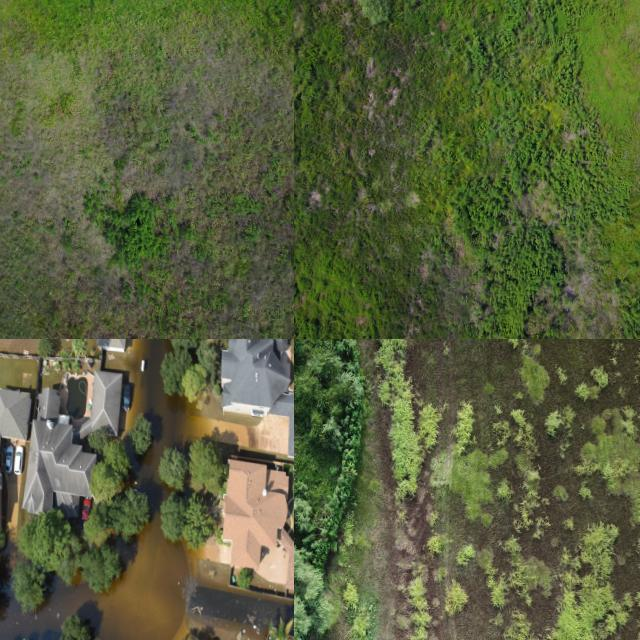fire: (0, 339, 232, 640)
